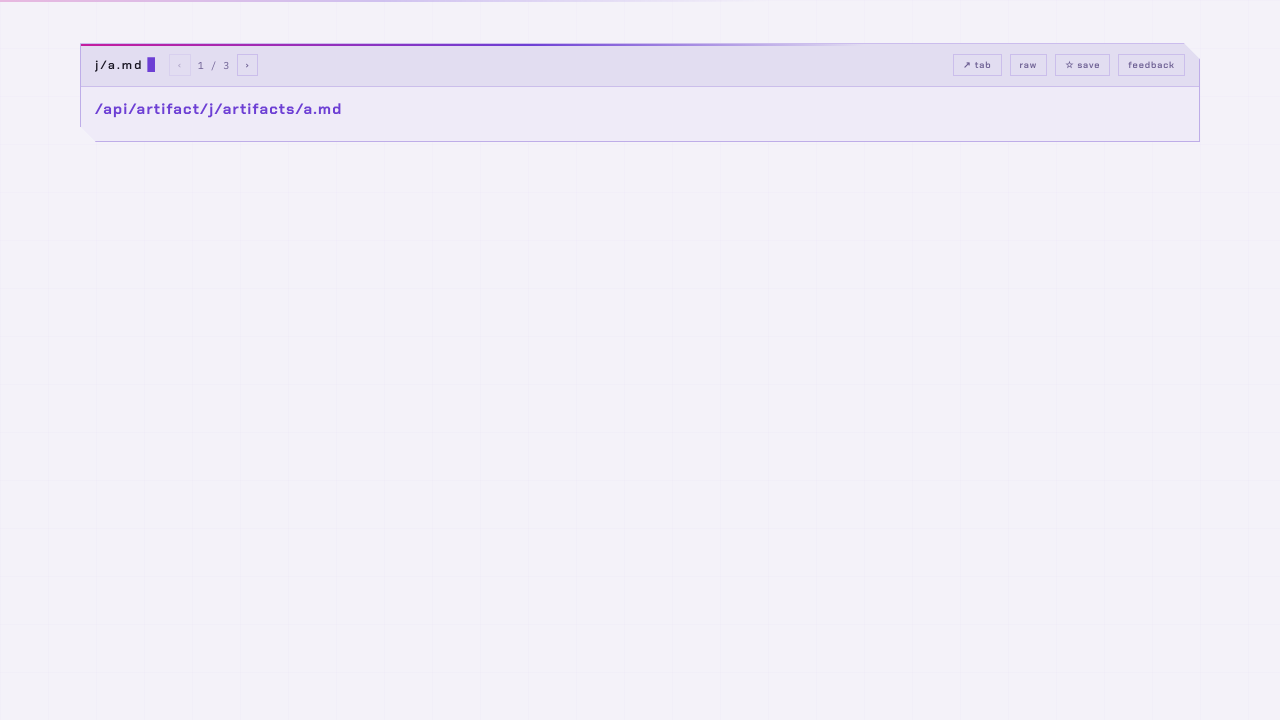
Test: stepping › ‹ › walk the job's set
Click the button "›": coordinates (247, 65) [237,54,258,76]
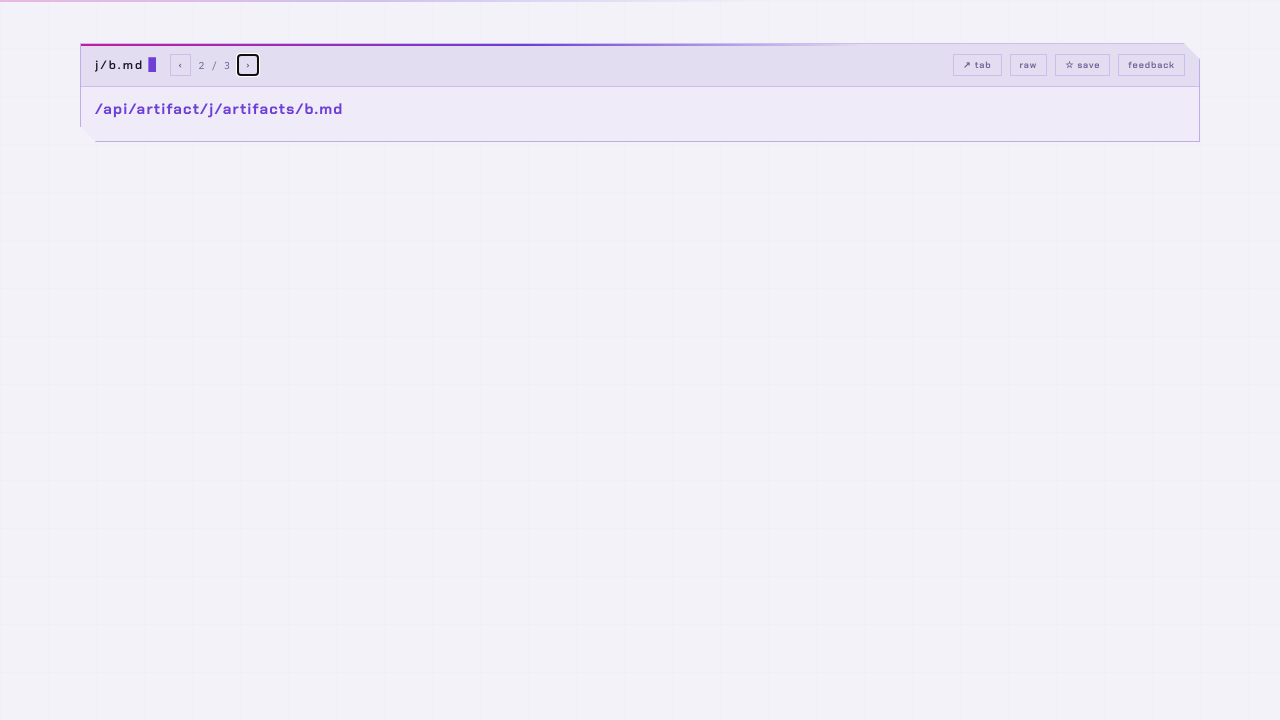
Expected: the text "j/b.md" is shown, [95,57,160,73]
Click the button "‹": coordinates (181, 65) [170,54,192,76]
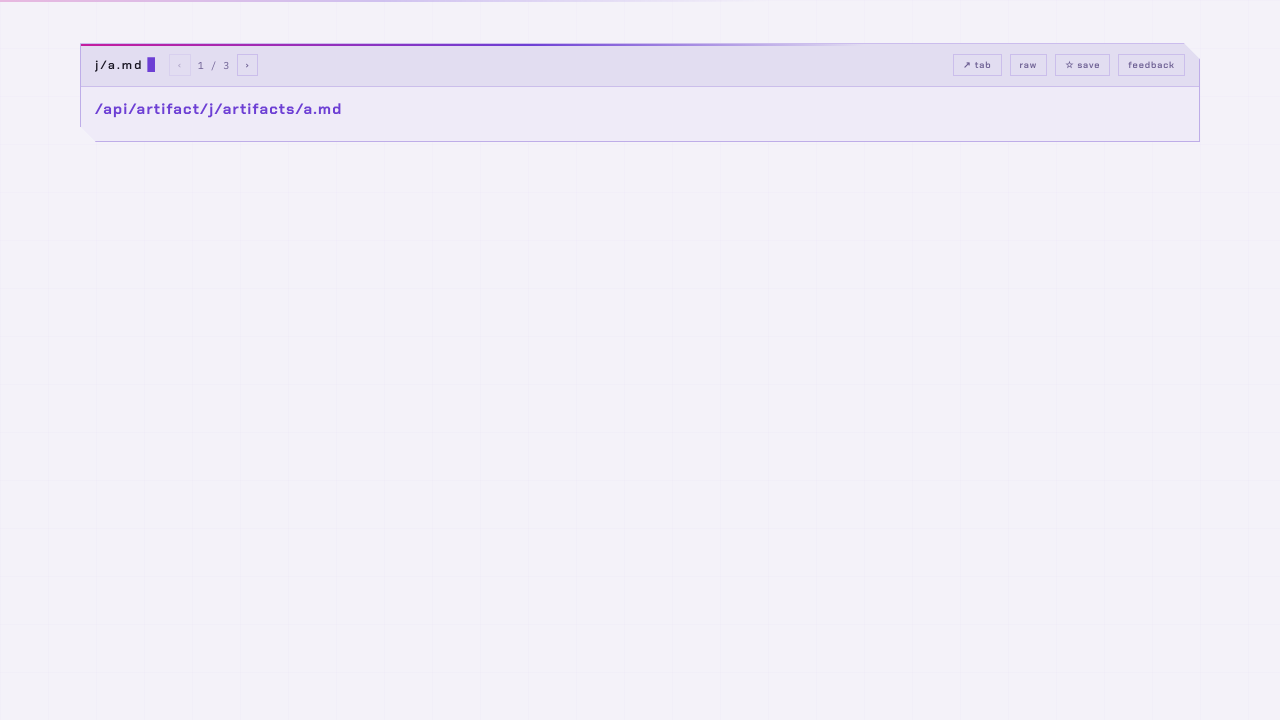
Expected: the text "j/a.md" is shown, [95,57,159,73]
